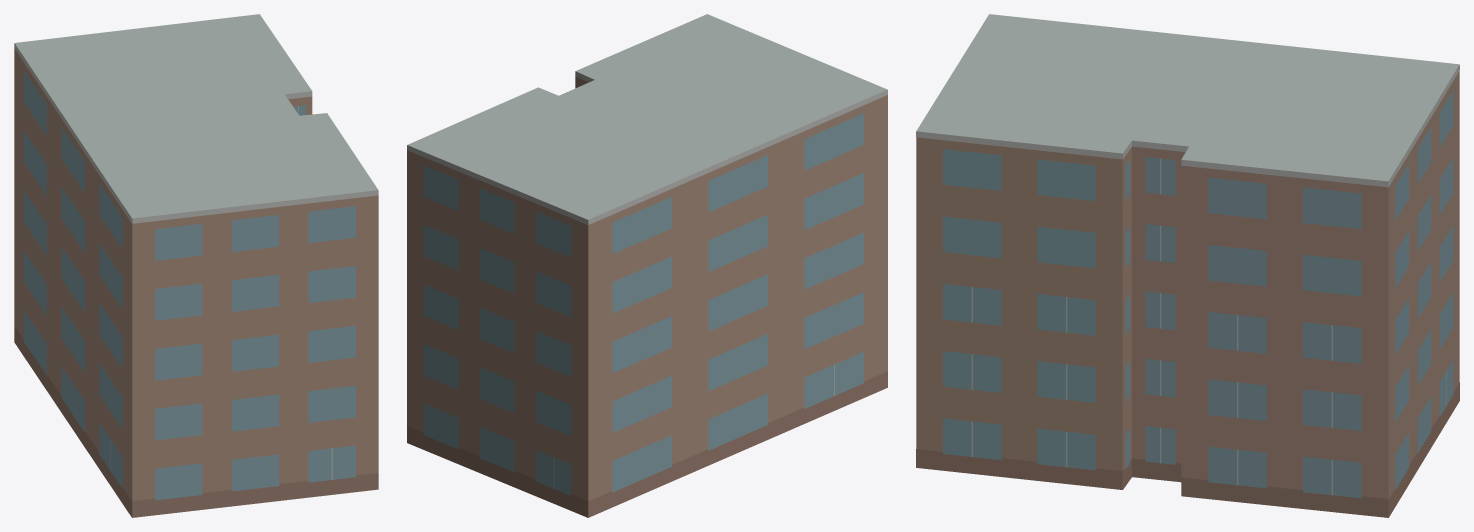
File: survey-upis-32985650.glb
The picture shows the model from 3 angles, left to right: view 1: azimuth 30°, elevation 25°; view 2: azimuth 150°, elevation 25°; view 3: azimuth 270°, elevation 25°; orthographic projection. The views are drawn at different scales.
Parts seen in each view (by area): view 1: survey-upis-32985650.tmp; view 2: survey-upis-32985650.tmp; view 3: survey-upis-32985650.tmp.
Boxes of the visible parts, x1,y1,x2,y2 form: survey-upis-32985650.tmp: (14, 14, 378, 517); survey-upis-32985650.tmp: (407, 14, 887, 517); survey-upis-32985650.tmp: (916, 14, 1459, 517).
Bounding box in the file's own units: 14.79 × 13.85 × 20.29.
